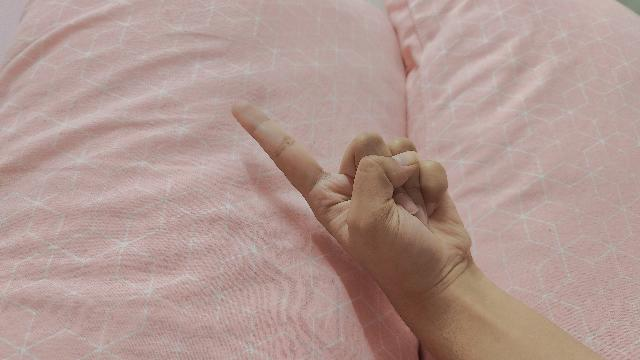soochi: (232, 106, 536, 360)
